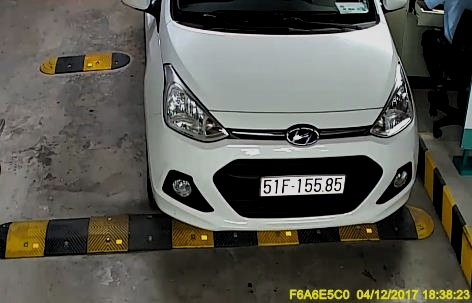plate: (260, 175, 344, 195)
